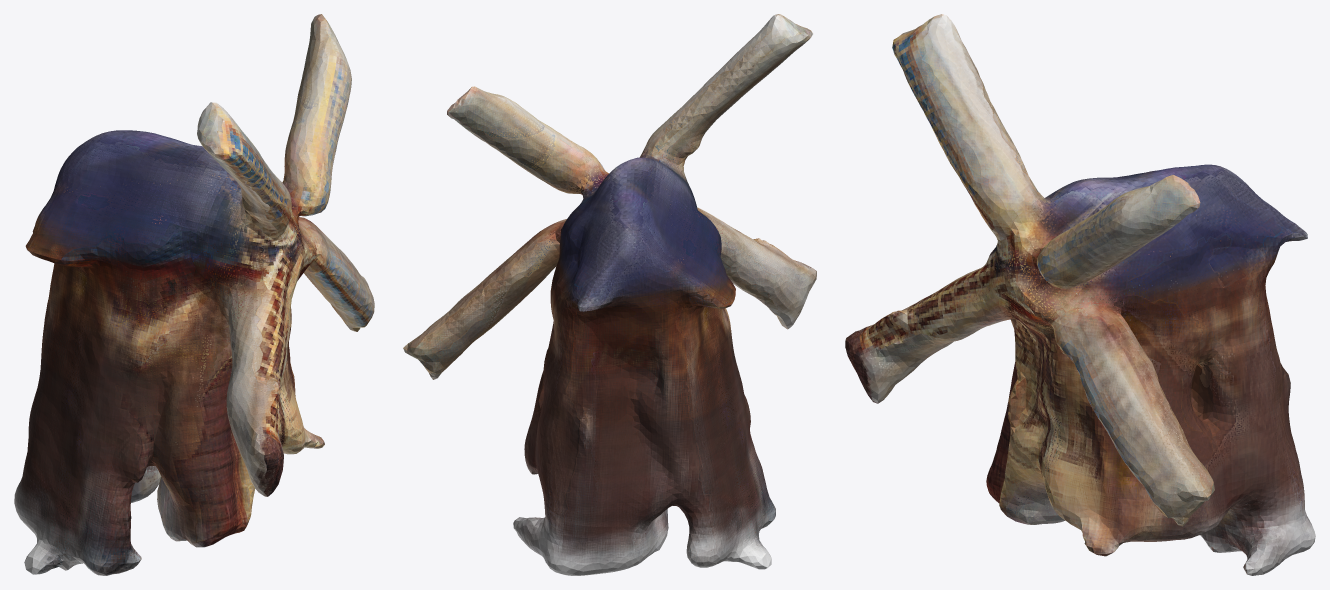
File: windmill.glb
3 renders of one model, left to right at view 1: azimuth 30°, elevation 25°; view 2: azimuth 150°, elevation 25°; view 3: azimuth 270°, elevation 25°, orthographic. The views are drawn at different scales.
Bounding box in the file's own units: 0.7962 × 1.07 × 0.8673.
1 material, 1 textured.
